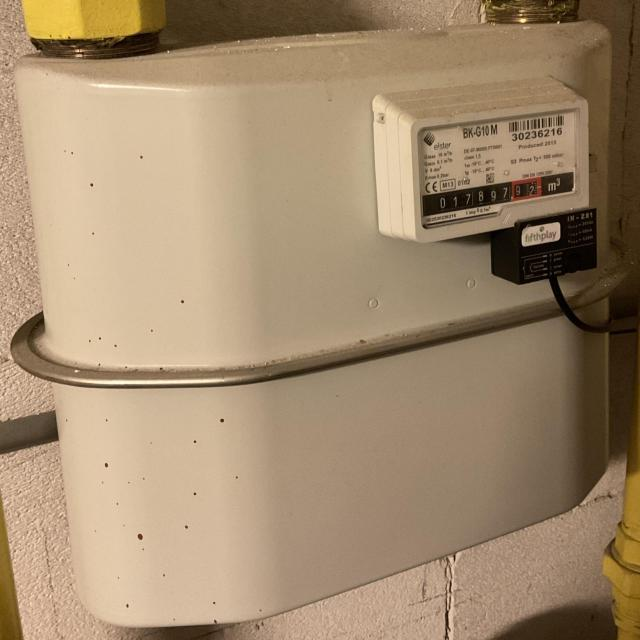gaz_meter: (419, 112, 580, 227)
indication: (425, 177, 543, 216)
